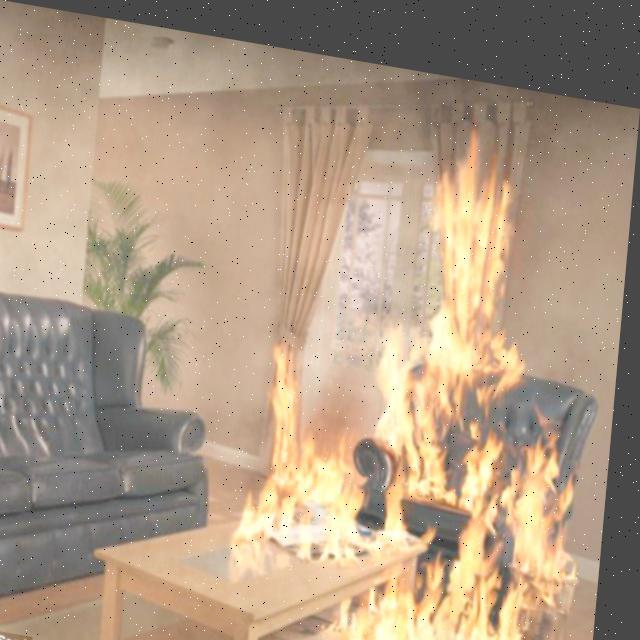Fire: (249, 132, 616, 639)
